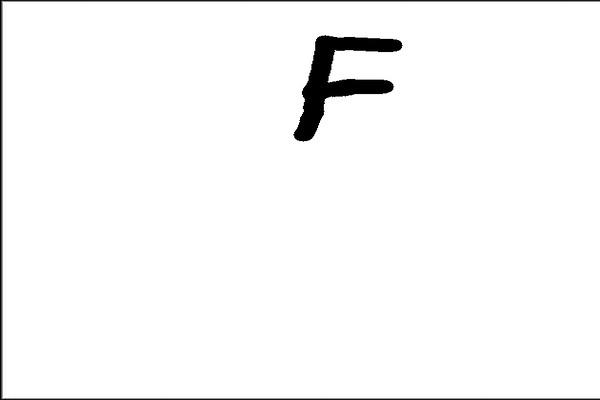F: (286, 31, 406, 143)
